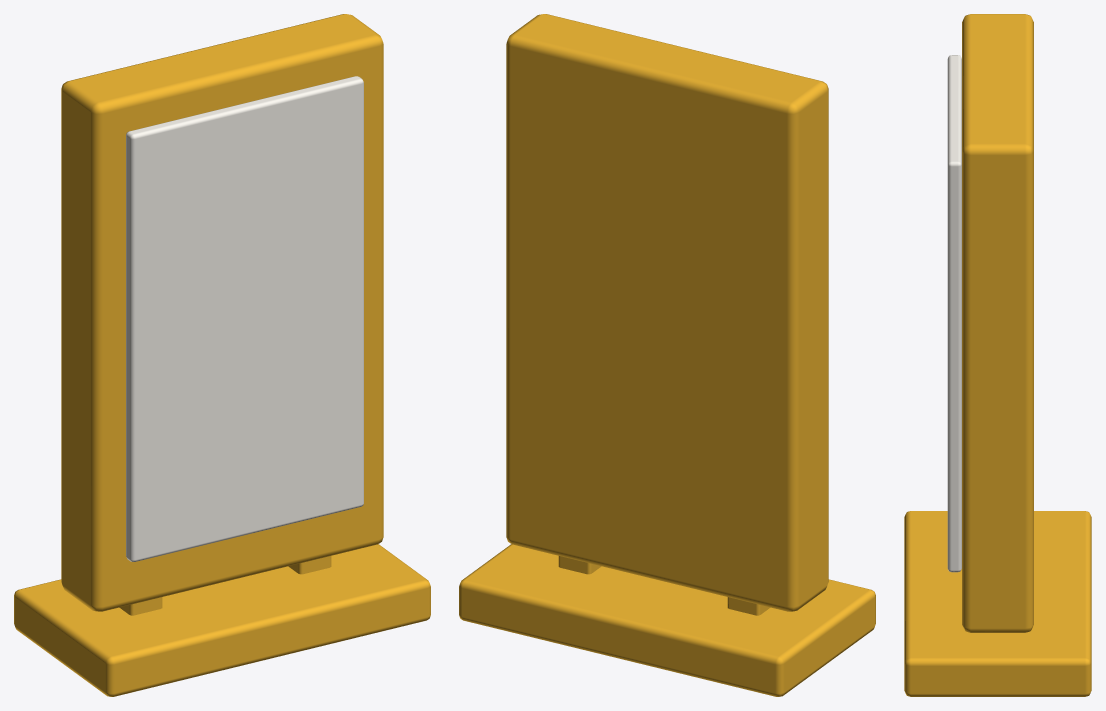
Rendered from mall-ad-display.glb.
3 renders of one model, left to right at view 1: azimuth 30°, elevation 25°; view 2: azimuth 150°, elevation 25°; view 3: azimuth 270°, elevation 25°, orthographic. The views are drawn at different scales.
Parts seen in each view (by area): view 1: screen, frame, base; view 2: frame, base; view 3: frame, base, screen.
Part boxes in pixels (left/top/right/bottom): screen: left=126, top=76, right=363, bottom=561; frame: left=61, top=14, right=383, bottom=611; base: left=14, top=544, right=430, bottom=696; frame: left=506, top=14, right=828, bottom=611; base: left=459, top=544, right=875, bottom=696; frame: left=962, top=14, right=1033, bottom=632; base: left=904, top=511, right=1091, bottom=696; screen: left=947, top=55, right=961, bottom=572.
Size of the model in its own units: 1 by 1.67 by 0.52.
